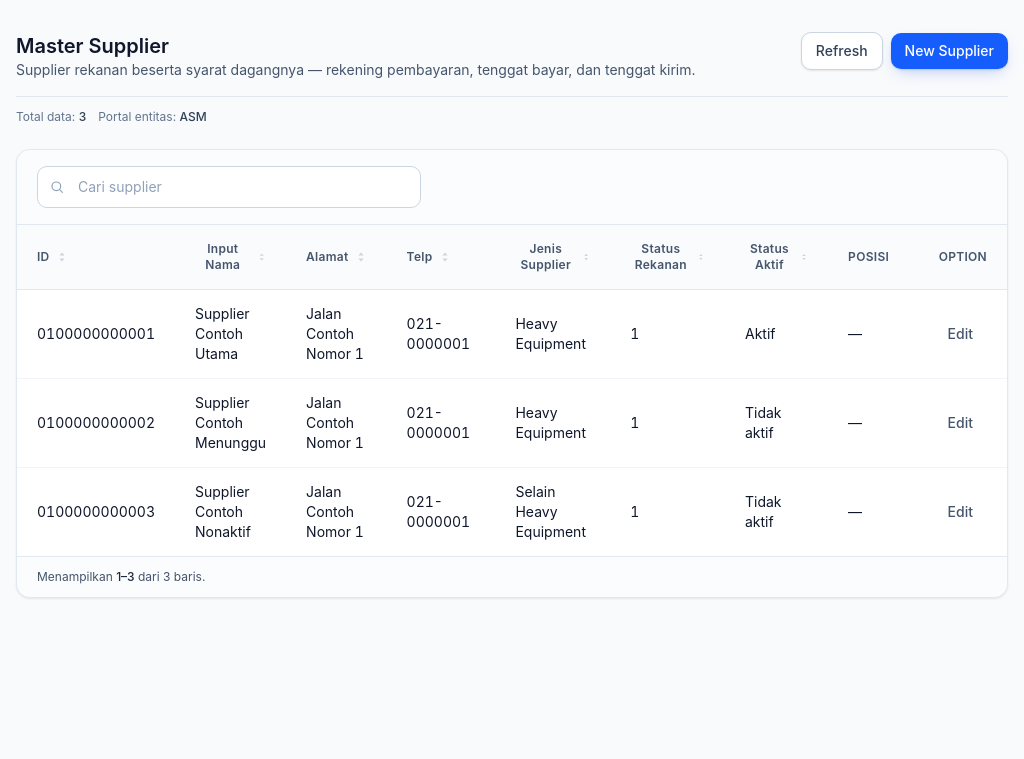
Scenario: form master supplier › mengunci isian Nama saat mengubah
Check: the text "Supplier Contoh Utama" is shown, box [195,305,250,362]
Click the button "Edit" in the row of "0100000000001". click: click(960, 334)
box: [934,316,987,352]
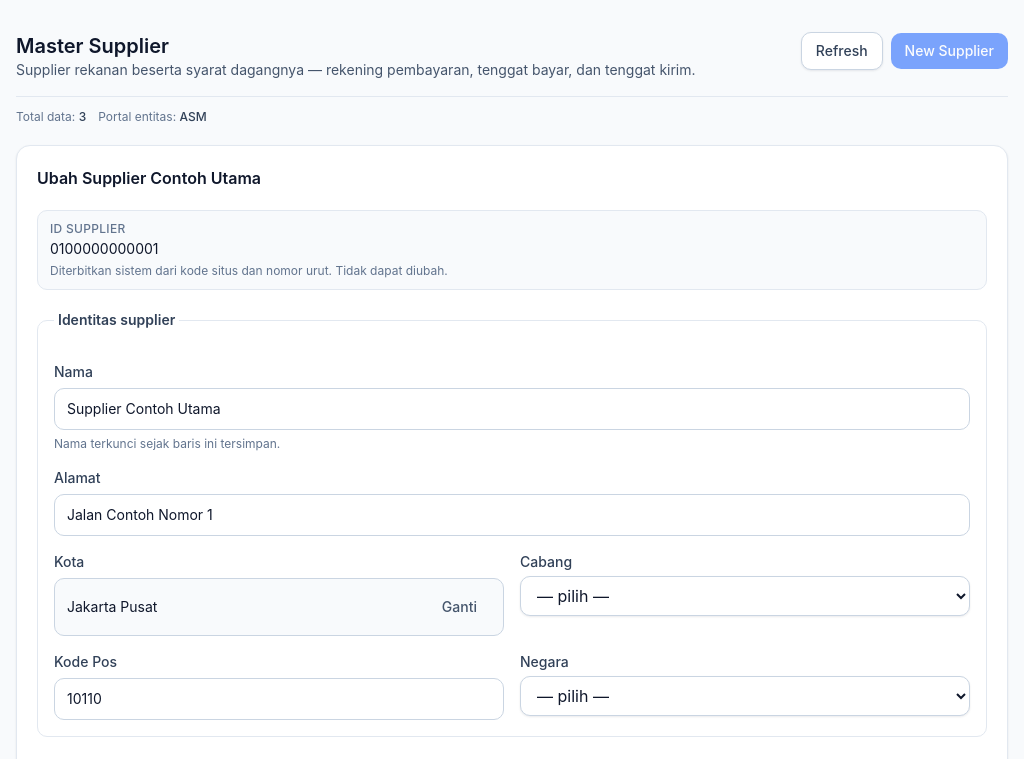
Check: the text "Nama terkunci sejak baris ini tersimpan." is shown, box [54,436,280,451]
